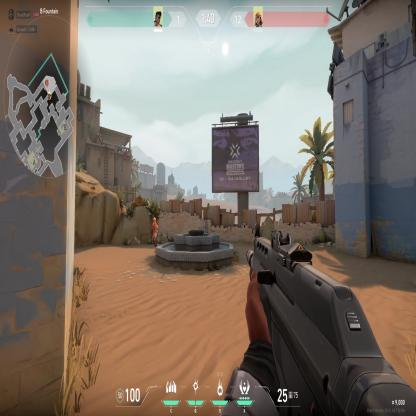enemy: (150, 216, 158, 246)
